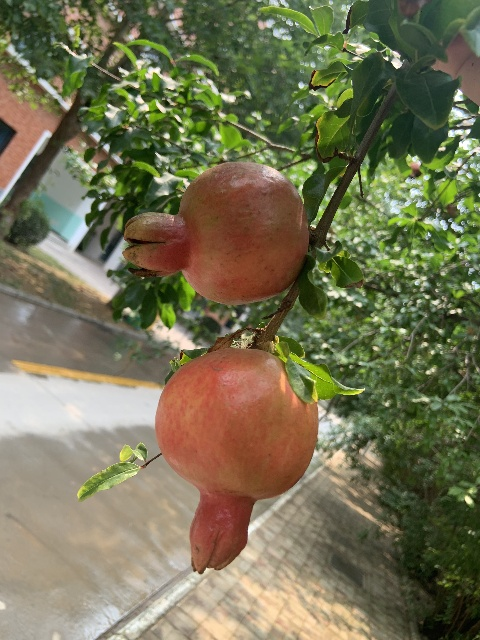ripe: (154, 346, 318, 573), (123, 161, 308, 306)
